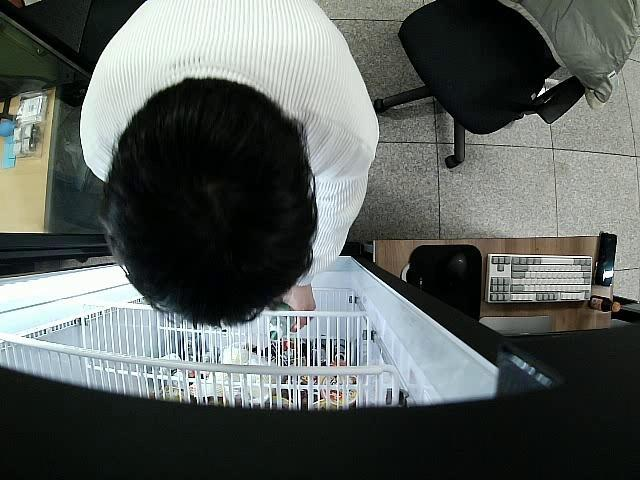18_trevi: (266, 305, 294, 338)
